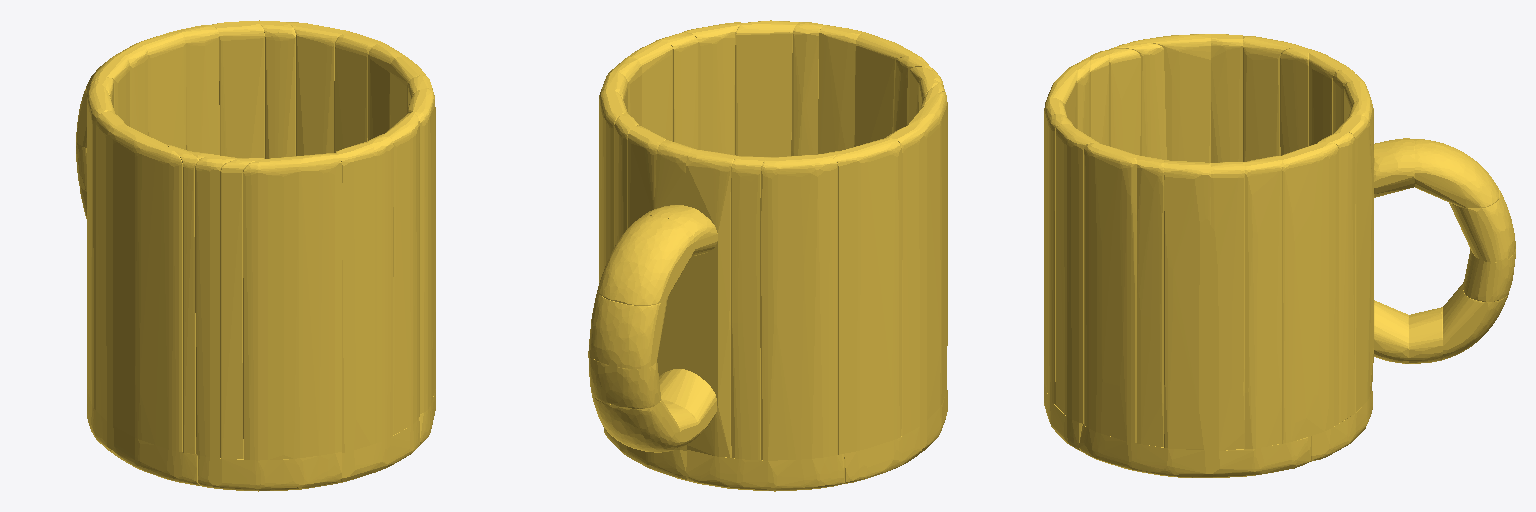
The robot description file, URDF, robot "87.urdf":
<?xml version="1.0" ?>
<robot name="87.urdf">
	<link name="baseLink">
		<inertial>
			<origin rpy="0 0 0" xyz="0 0 0"/>
				<mass value="0.1"/>
				<inertia ixx="6e-5" ixy="0" ixz="0" iyy="6e-5" iyz="0" izz="6e-5"/>
		</inertial>
		<visual>
			<origin rpy="0 0 0" xyz="0 0 0"/>
			<geometry>
				<mesh filename="15_decom_wt.obj" scale="0.95 0.95 0.89"/>
			</geometry>
			<material name="yellow">
				<color rgba="0.98 0.84 0.35 1"/>
			</material>
		</visual>
		<collision>
			<origin rpy="0 0 0" xyz="0 0 0"/>
			<geometry>
				<mesh filename="15_decom_wt.obj" scale="0.95 0.95 0.89"/>
			</geometry>
		</collision>
	</link>
</robot>

--- What the picture shows (computed from the rendered views, not written in the file) ---
The picture shows the robot from 3 angles, left to right: view 1: azimuth 30°, elevation 25°; view 2: azimuth 150°, elevation 25°; view 3: azimuth 270°, elevation 25°; orthographic projection.
Robot: 87.urdf — 1 links, 0 joints (none); root link baseLink; default pose: every joint at zero.
Links seen in each view (by area): view 1: baseLink; view 2: baseLink; view 3: baseLink.
Link boxes in pixels (left/top/right/bottom): baseLink: left=76, top=20, right=435, bottom=491; baseLink: left=588, top=20, right=947, bottom=491; baseLink: left=1044, top=34, right=1515, bottom=477.
Size in the robot's own frame: 0.0817 by 0.1172 by 0.0859 metres.
Meshes: 1 distinct files referenced, 1 mesh visuals loaded (1 OBJ).